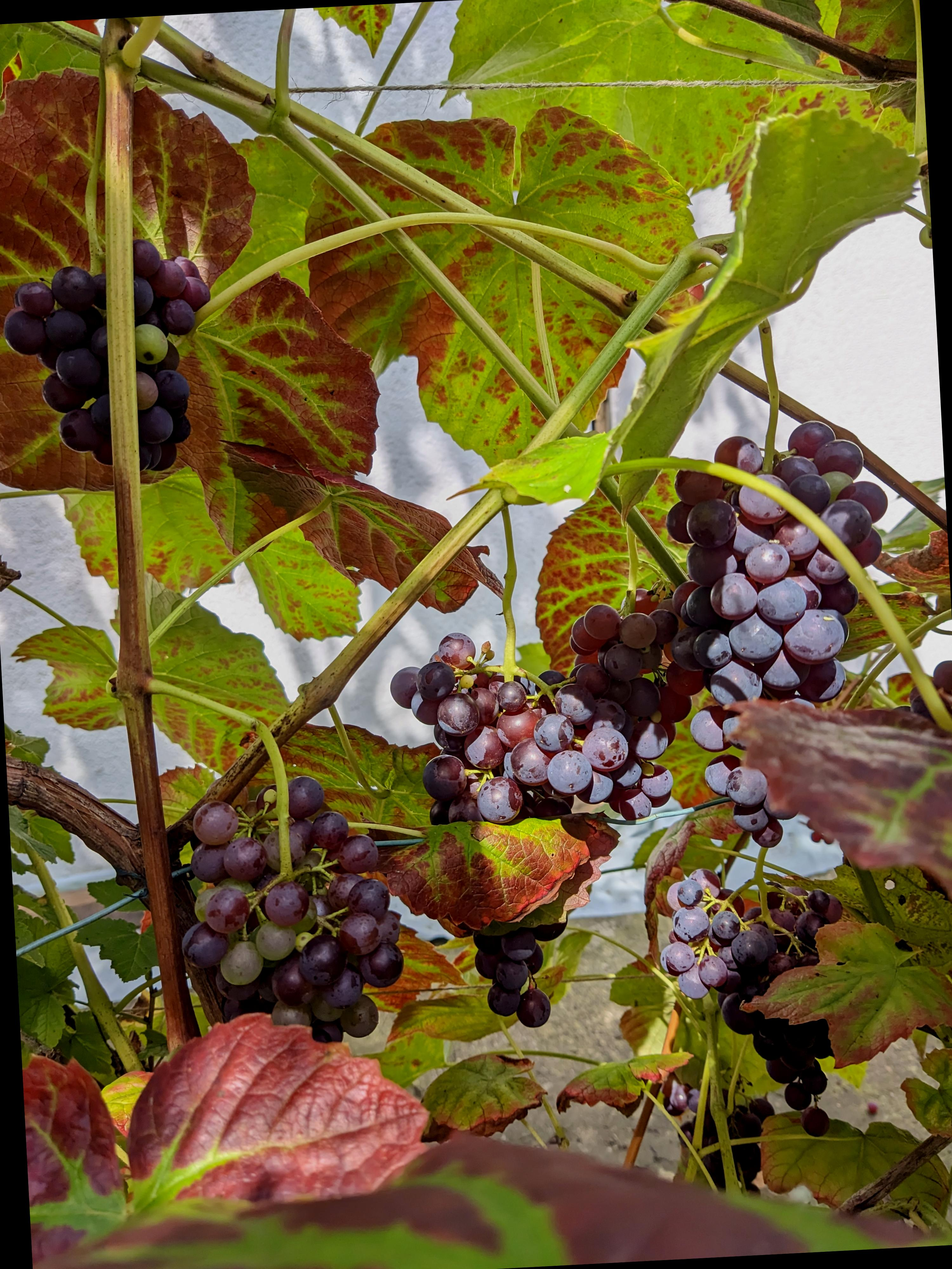Grape Ripe: (616, 441, 870, 864), (357, 613, 676, 858), (146, 797, 376, 1072), (627, 885, 828, 1168), (0, 261, 185, 505), (636, 1110, 748, 1225), (432, 938, 541, 1055)
